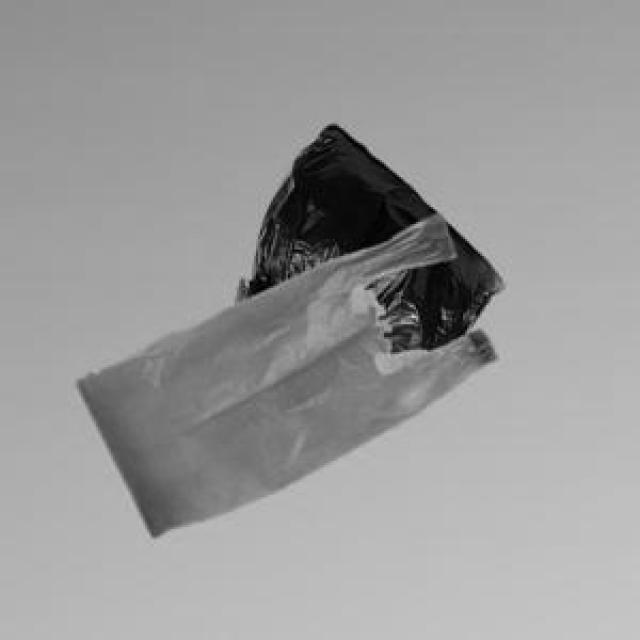miscellaneous trash: (233, 122, 501, 350)
